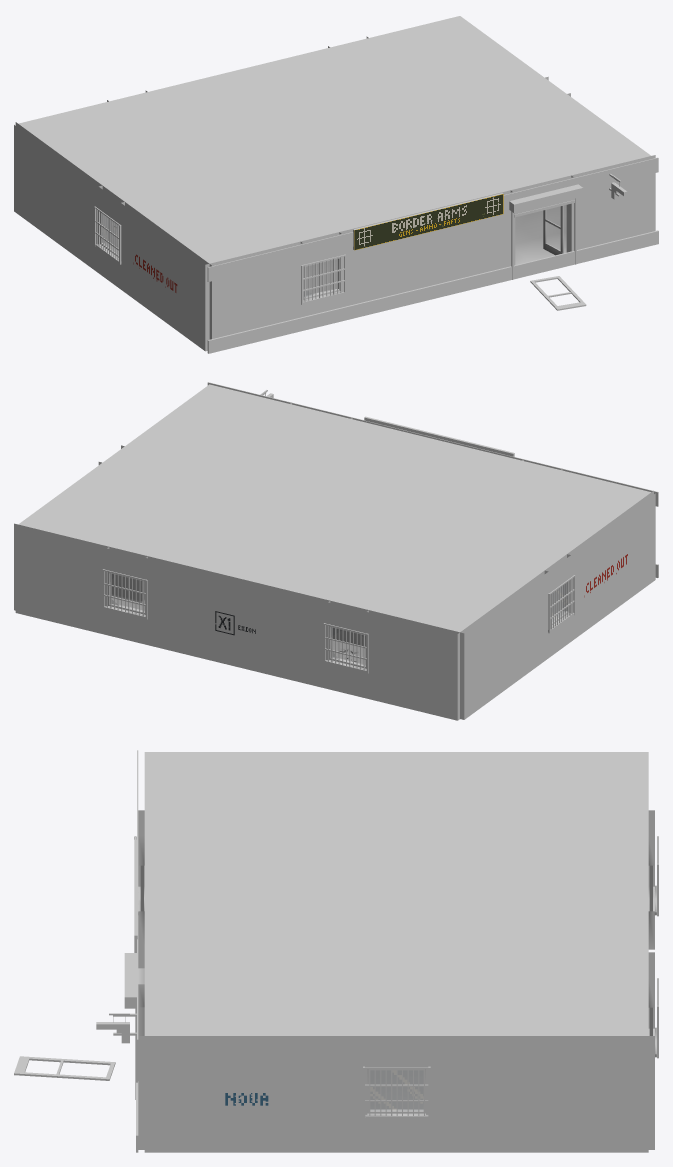
File: gun_store.glb
The picture shows the model from 3 angles, top to bottom: view 1: azimuth 30°, elevation 25°; view 2: azimuth 150°, elevation 25°; view 3: azimuth 270°, elevation 25°; orthographic projection. The views are drawn at different scales.
Visible parts, largest first — view 1: gun_store; view 2: gun_store; view 3: gun_store.
Part boxes in pixels (box(x1,y1,x2,y2)): gun_store: box(14, 16, 658, 353); gun_store: box(14, 382, 658, 720); gun_store: box(14, 750, 658, 1152).
Bounding box in the file's own units: 16.49 × 3.07 × 15.36.
Materials: 4 (3 with a texture image).
